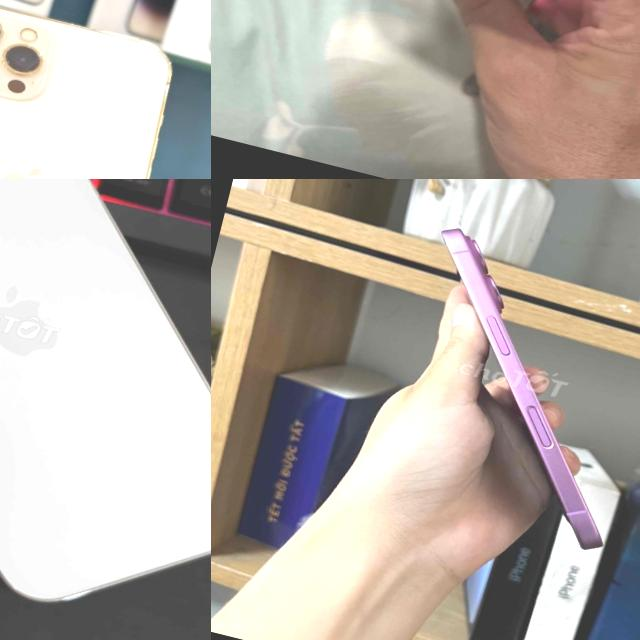gen_12_13: (0, 0, 191, 179)
gen_14: (0, 179, 211, 640)
gen_16: (369, 221, 640, 555)
